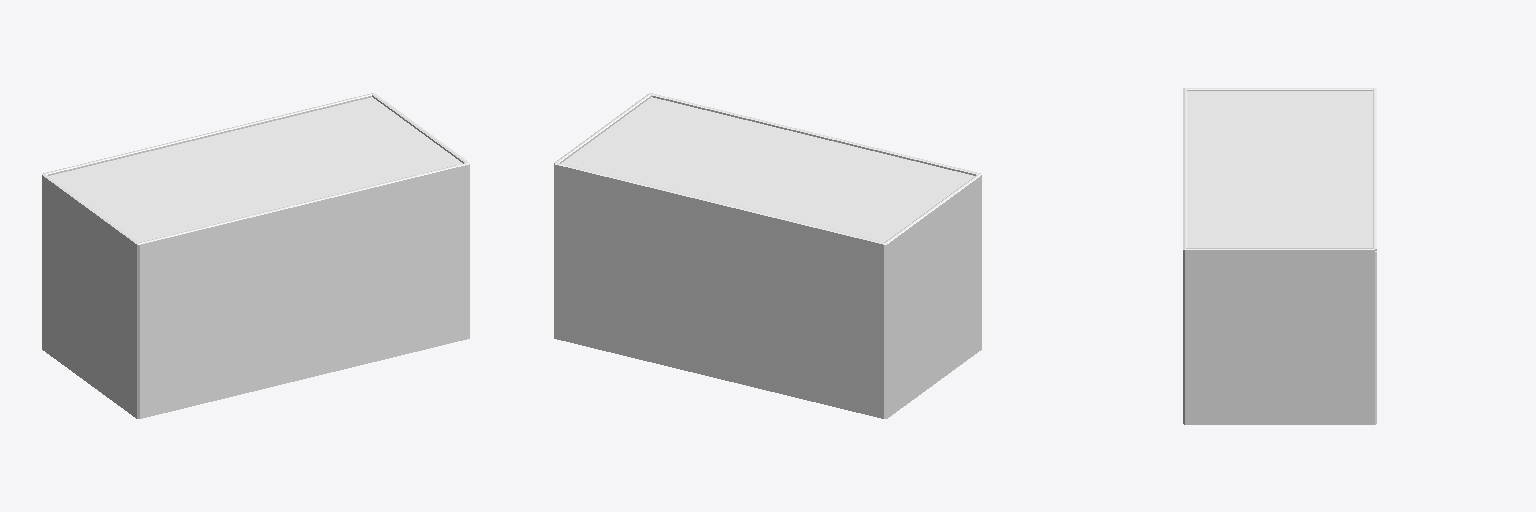
The model's file is DisplayTable.obj.
3 views of the same model, side by side, from view 1: azimuth 30°, elevation 25°; view 2: azimuth 150°, elevation 25°; view 3: azimuth 270°, elevation 25° (orthographic).
Parts seen in each view (by area): view 1: DisplayTable; view 2: DisplayTable; view 3: DisplayTable.
Part boxes in pixels (left/top/right/bottom): DisplayTable: left=42, top=93, right=469, bottom=418; DisplayTable: left=554, top=93, right=981, bottom=418; DisplayTable: left=1183, top=88, right=1376, bottom=424.
Size of the model in its own units: 2.02 by 1.01 by 1.02.